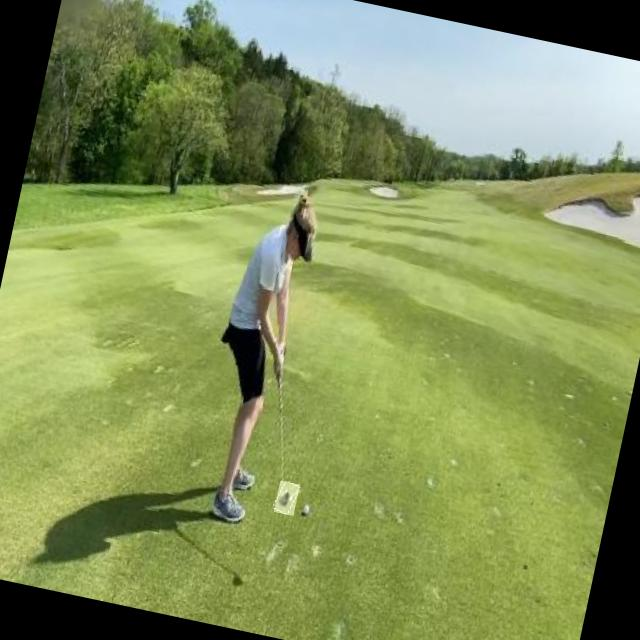club head: (274, 480, 300, 516)
